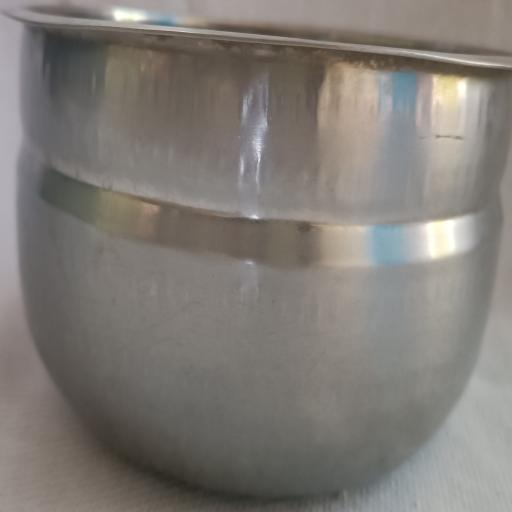vessel: (11, 7, 512, 496)
